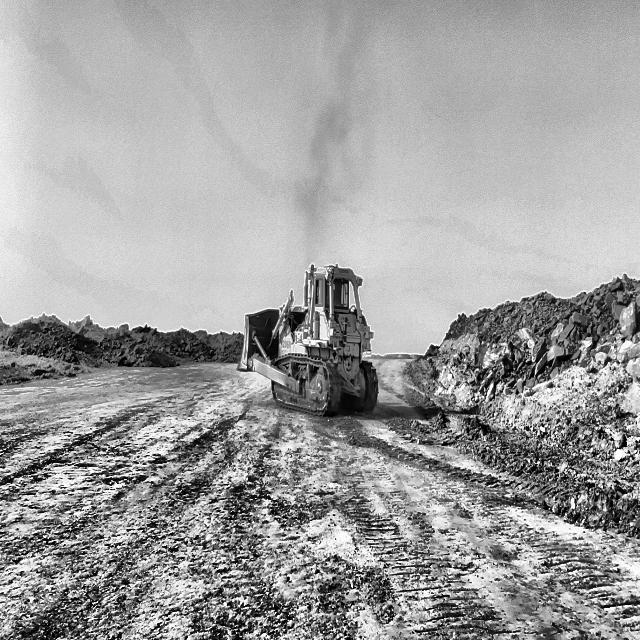buldozerpayloadergrader: (240, 266, 378, 413)
